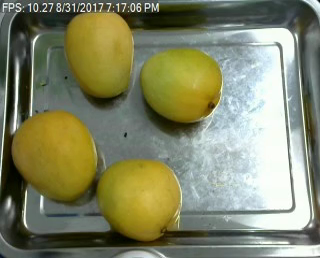Mango: (10, 110, 97, 203), (96, 159, 182, 241), (63, 10, 135, 99), (139, 46, 221, 121)
